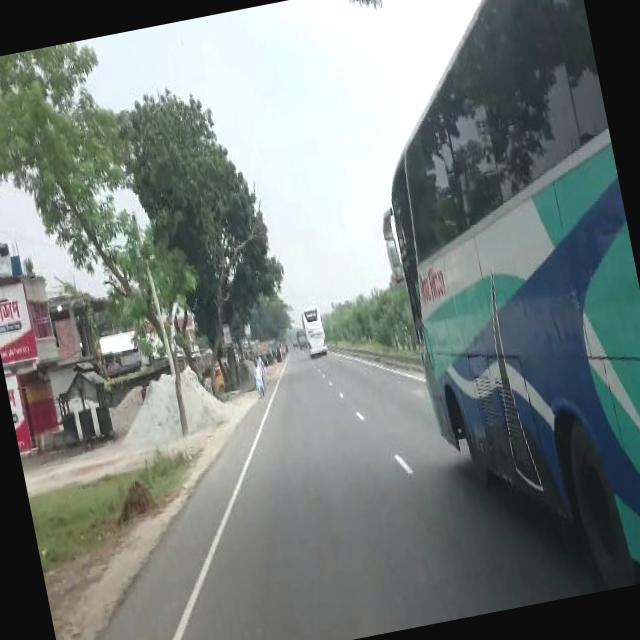bus: (332, 0, 640, 618), (298, 304, 330, 359)
